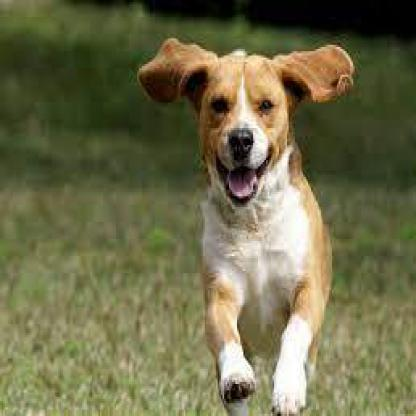dog: (132, 34, 353, 414)
